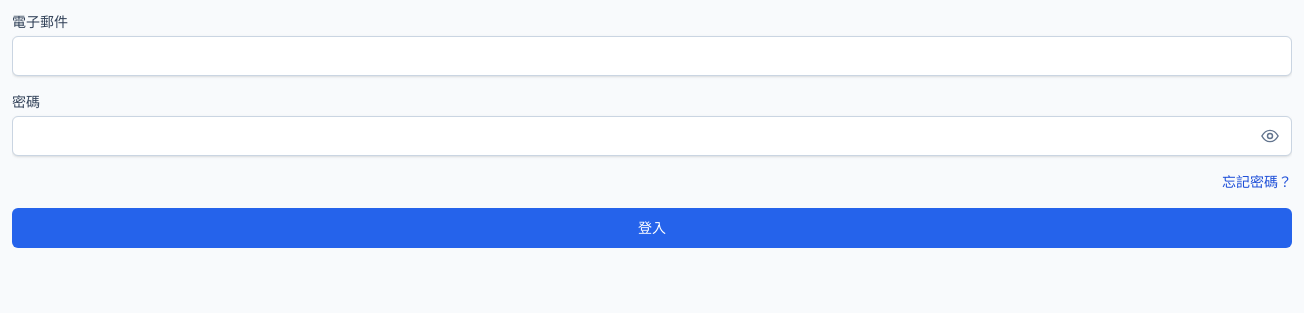
it: LoginForm validation › shows validation errors for empty submit
What coordinates should you click on to do the following:
click the button "登入"
I would click on:
 (652, 228)
Its box is left=12, top=208, right=1292, bottom=248.
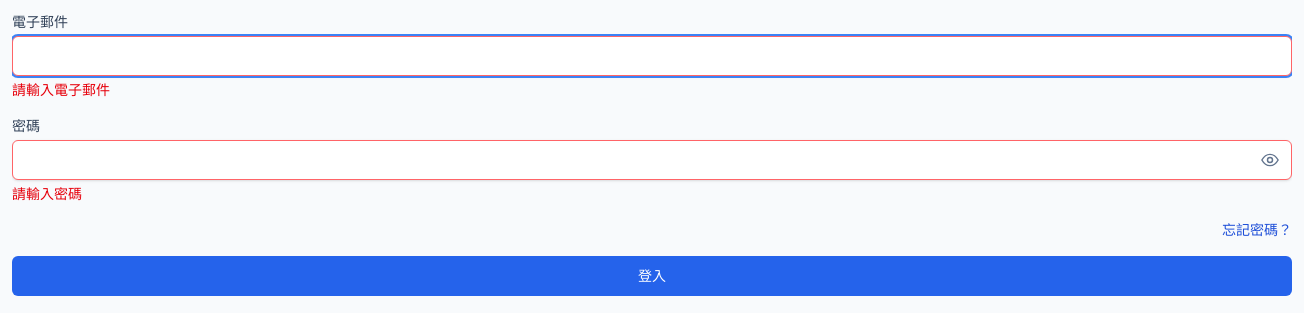
Expected: the text "請輸入電子郵件" is shown, left=12, top=80, right=110, bottom=99
Expected: the text "請輸入密碼" is shown, left=12, top=184, right=82, bottom=203
